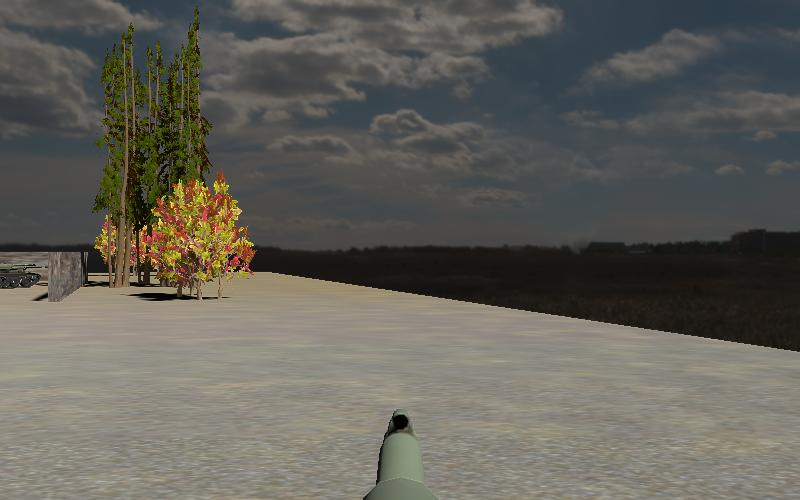Tank: (0, 261, 47, 289)
